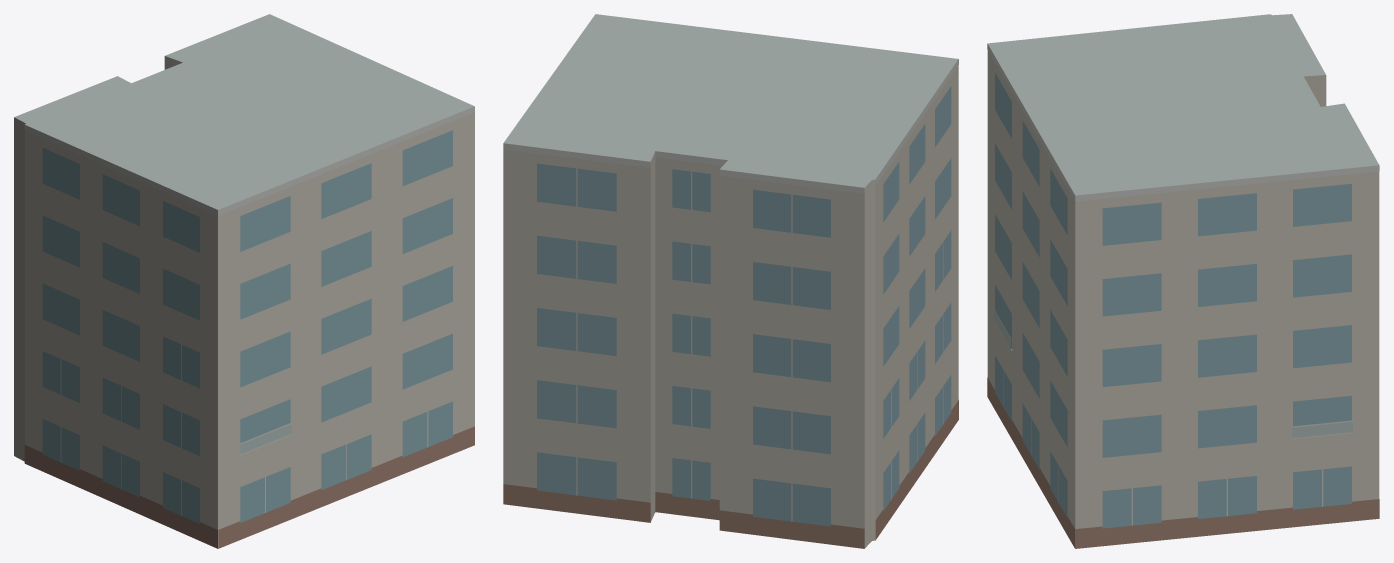
The model's file is survey-upis-33042297.glb.
The picture shows the model from 3 angles, left to right: view 1: azimuth 30°, elevation 25°; view 2: azimuth 150°, elevation 25°; view 3: azimuth 270°, elevation 25°; orthographic projection. The views are drawn at different scales.
Visible parts, largest first — view 1: survey-upis-33042297.tmp; view 2: survey-upis-33042297.tmp; view 3: survey-upis-33042297.tmp.
Boxes of the visible parts, <box> form: survey-upis-33042297.tmp: <box>14,14,474,548</box>; survey-upis-33042297.tmp: <box>503,14,958,548</box>; survey-upis-33042297.tmp: <box>987,14,1379,548</box>.
Size of the model in its own units: 15.65 by 14.2 by 14.29.
